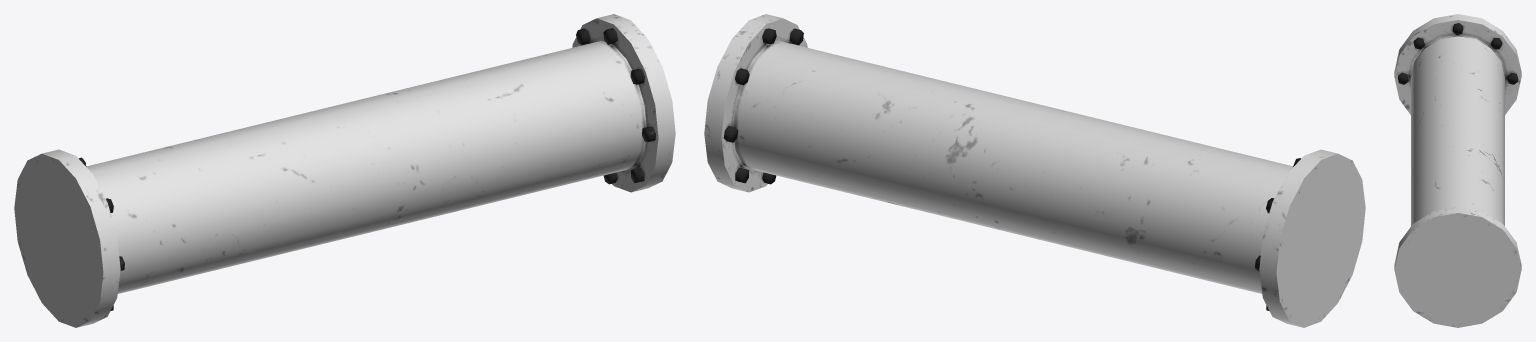
The model's file is Pipe_50cm.fbx.
The picture shows the model from 3 angles, left to right: view 1: azimuth 30°, elevation 25°; view 2: azimuth 150°, elevation 25°; view 3: azimuth 270°, elevation 25°; orthographic projection. The views are drawn at different scales.
Parts seen in each view (by area): view 1: Pipe_50cm; view 2: Pipe_50cm; view 3: Pipe_50cm.
Part boxes in pixels (x1,y1,x2,y2): Pipe_50cm: (14, 14, 675, 327); Pipe_50cm: (704, 14, 1365, 327); Pipe_50cm: (1394, 14, 1521, 327).
Bounding box in the file's own units: 50 × 13.5 × 13.5.
